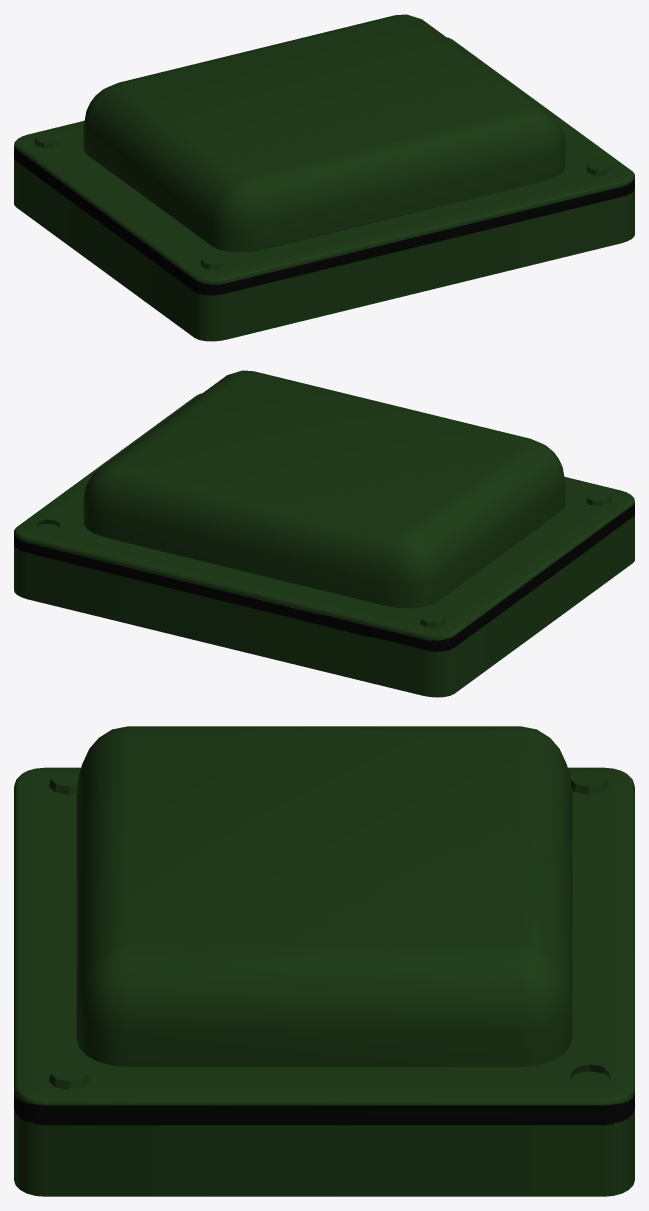
The model's file is ПТ-Колодка_П.fbx.
3 renders of one model, top to bottom at view 1: azimuth 30°, elevation 25°; view 2: azimuth 150°, elevation 25°; view 3: azimuth 270°, elevation 25°, orthographic. The views are drawn at different scales.
Visible parts, largest first — view 1: kolodka_P; view 2: kolodka_P; view 3: kolodka_P.
Boxes of the visible parts, x1,y1,x2,y2 form: kolodka_P: (14,14,634,341); kolodka_P: (14,370,634,697); kolodka_P: (14,726,634,1196).
Bounding box in the file's own units: 60 × 16.67 × 47.
